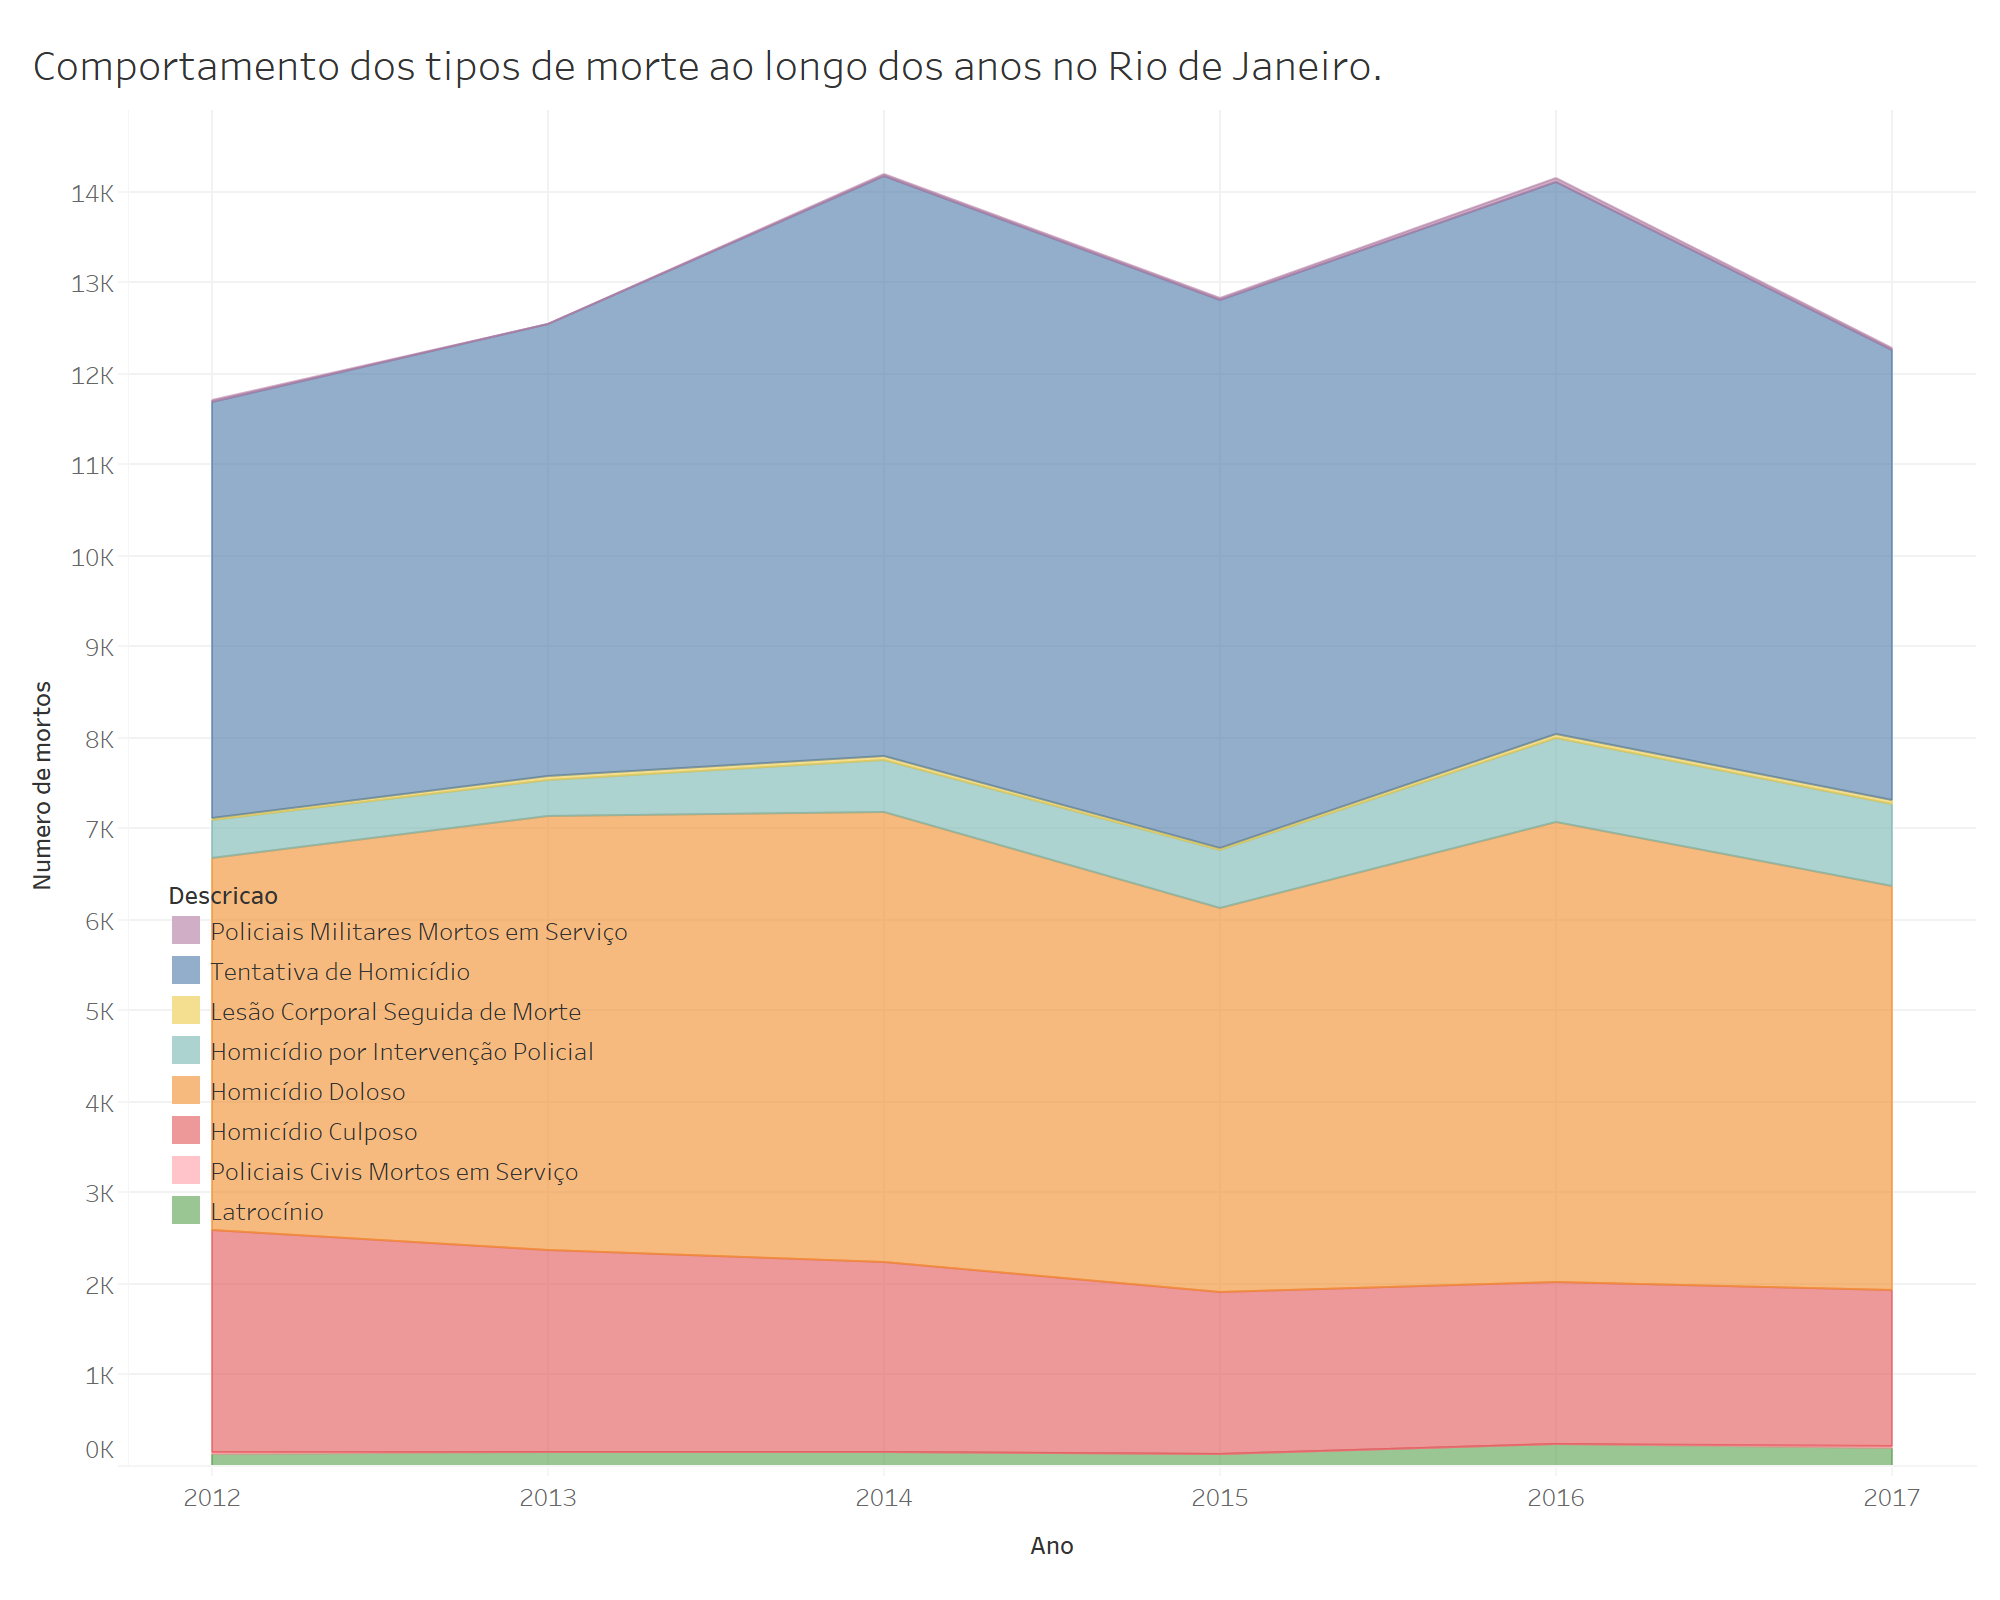

What the dashboard file says about the page in this screenshot:
{"tool":"tableau","page":{"name":"Dashboard 2","canvas":[1000,800],"ordinal":1},"visuals":[{"type":"worksheet","title":"Sheet 7","mark":"Area","rows":["numero"],"cols":["ano"],"box":[8,8,984,784]},{"type":"legend","title":"Sheet 7","param":"[federated.0soqjxx1rha4mi1e97uy51utfn9w].[none:descricao:nk]","box":[79,433,347,248]}]}

Visuals, with their boxes in screenshot pixels (x1, y1, x2, y2), scaled from the page's 1000x800 canvas onto the 2000x1600 screenshot:
"Sheet 7" worksheet (Area marks): (left=16, top=16, right=1984, bottom=1584)
"Sheet 7" legend: (left=158, top=866, right=852, bottom=1362)
